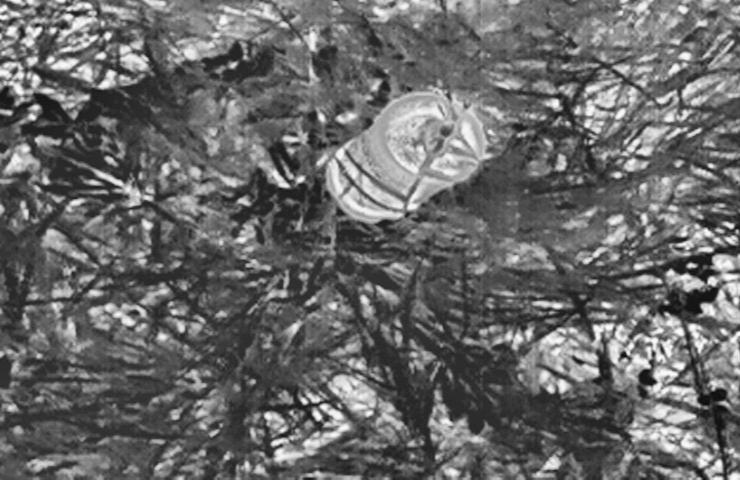landmines: (310, 76, 497, 236)
